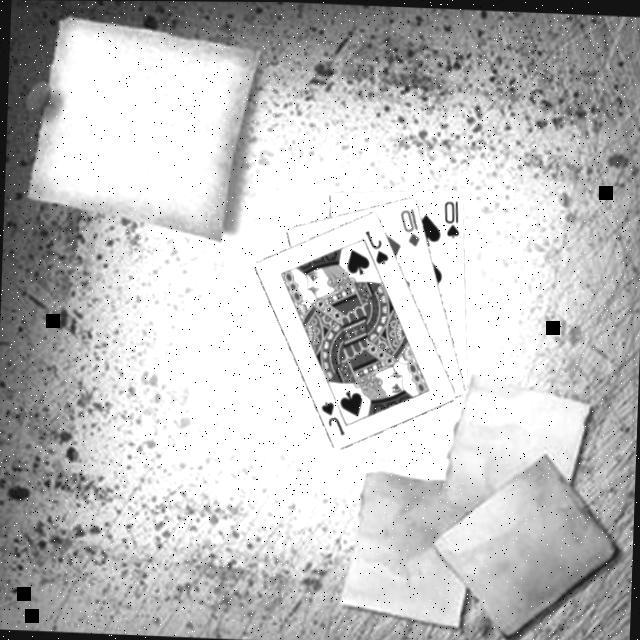10D: (395, 202, 423, 246)
10S: (440, 194, 462, 238)
JS: (316, 395, 348, 435), (360, 224, 391, 264)
